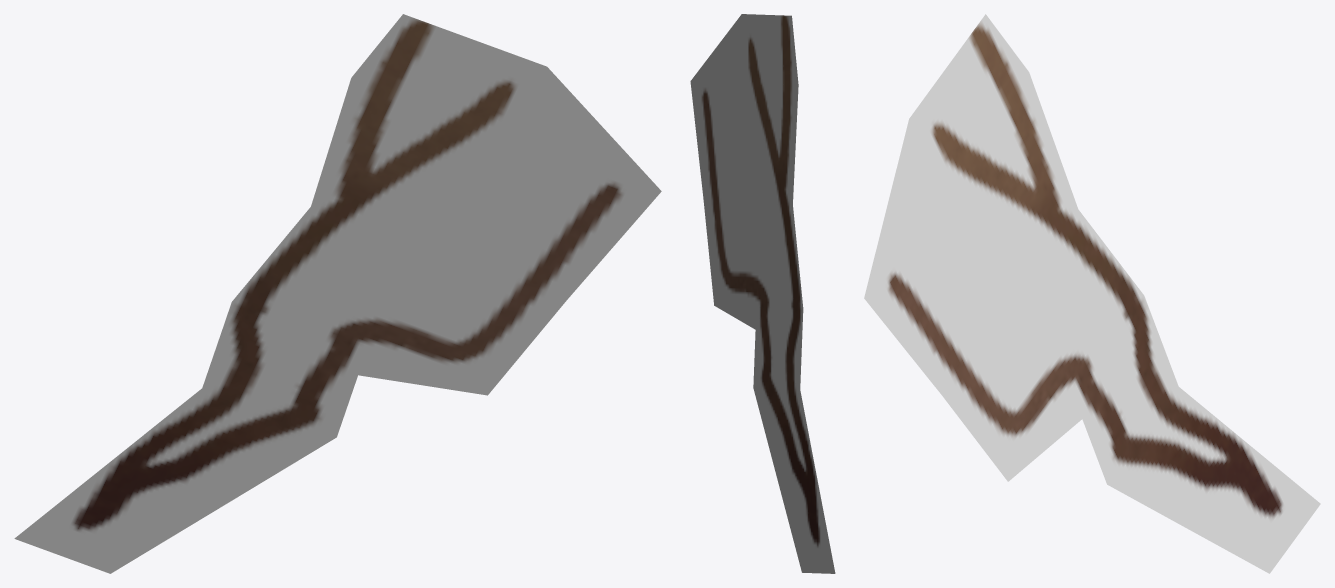
Rendered from branch2_001.fbx.
3 renders of one model, left to right at view 1: azimuth 30°, elevation 25°; view 2: azimuth 150°, elevation 25°; view 3: azimuth 270°, elevation 25°, orthographic. The views are drawn at different scales.
Visible parts, largest first — view 1: branch2.001; view 2: branch2.001; view 3: branch2.001.
Part boxes in pixels (x1,y1,x2,y2): branch2.001: [14, 14, 661, 573]; branch2.001: [690, 14, 835, 573]; branch2.001: [864, 14, 1320, 573].
Size of the model in its own units: 206 by 290 by 189.
